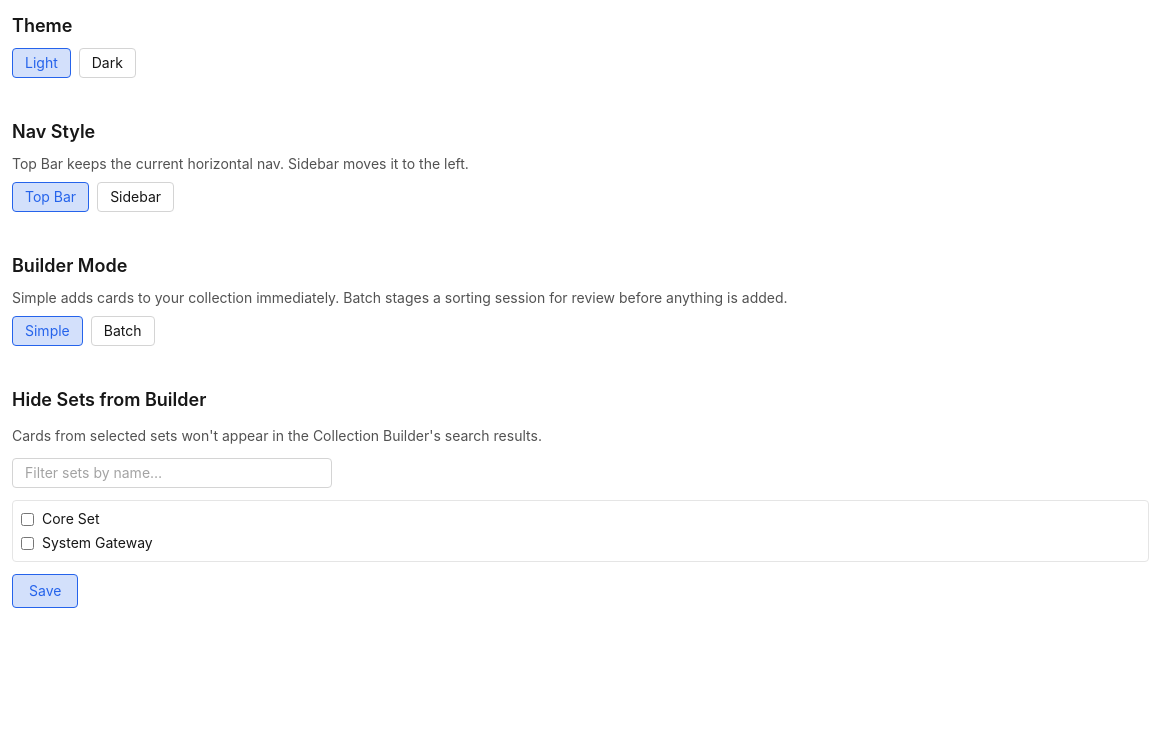
Test: SettingsForm › filters the set list by name
Type "core" into the field labelled "Filter sets by name" at (172, 473), box [12,458,332,488]
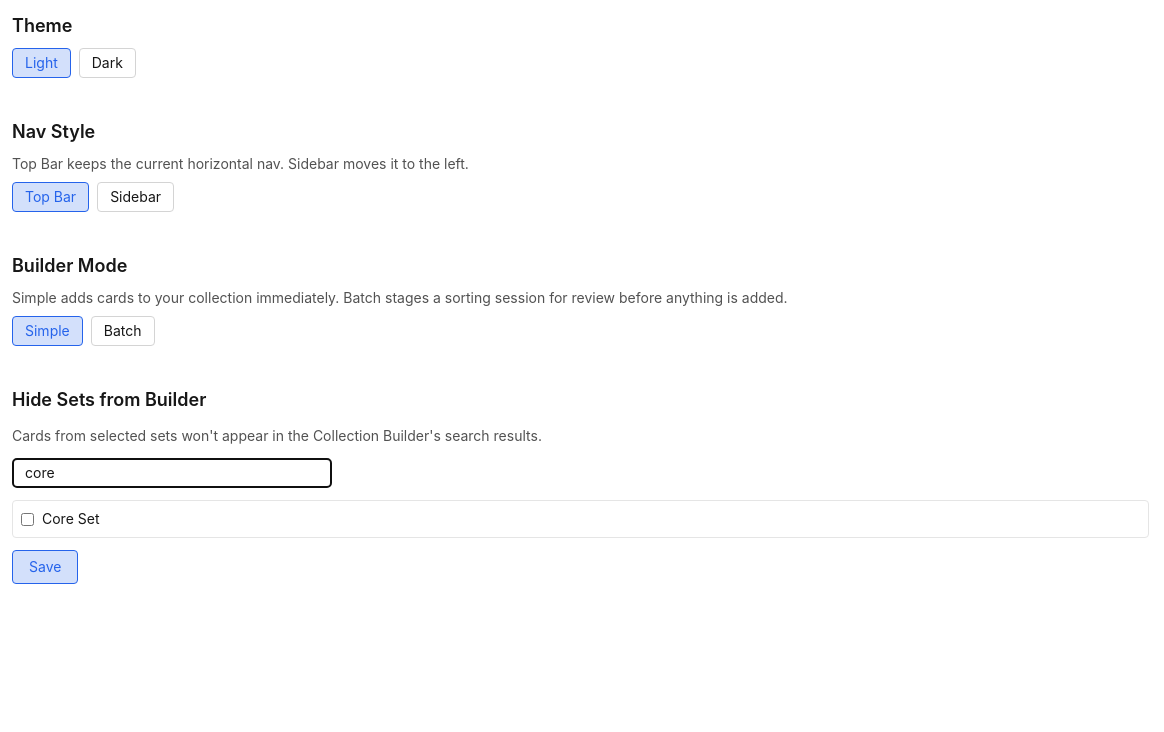
Expected: the checkbox labelled "Core Set" is shown, [21,512,34,526]
Expected: the text "System Gateway" is gone
